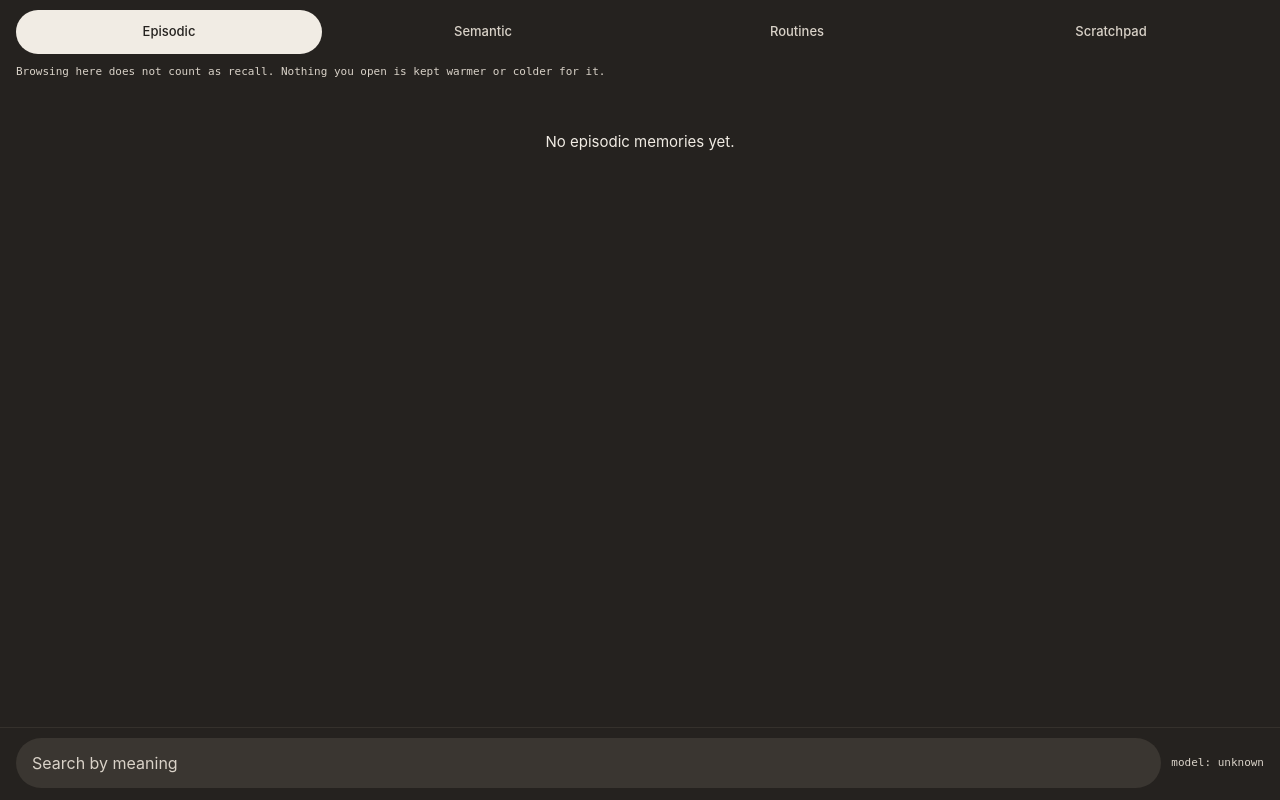
Test case: MemoryBench over useMemory › does not blame the browse for a search the embedder refused
Expected: the text "No episodic memories yet." is shown, x1=546 y1=130 x2=734 y2=153
Type "dentist" into the search field named "Search memory" at (589, 763), box x1=16 y1=738 x2=1161 y2=788
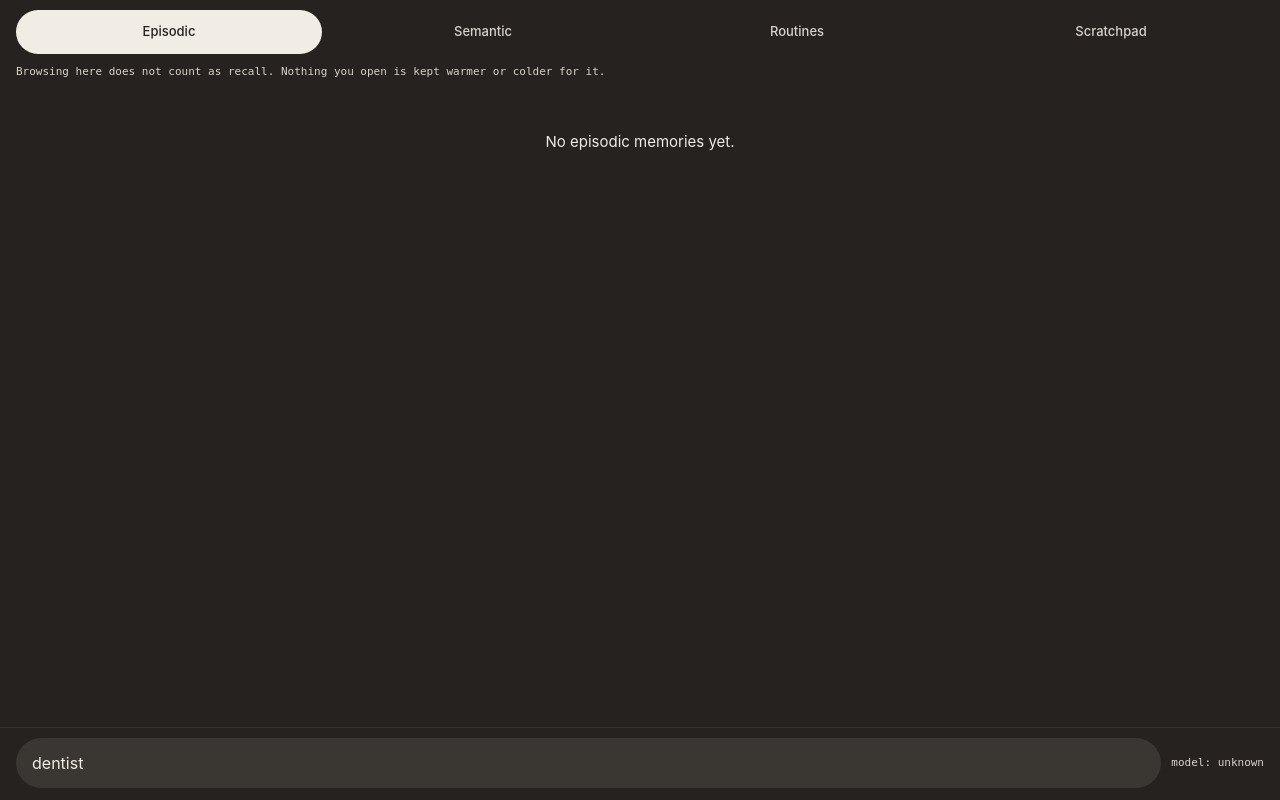
Submit the form named "Search memory", box x1=0 y1=727 x2=1279 y2=799
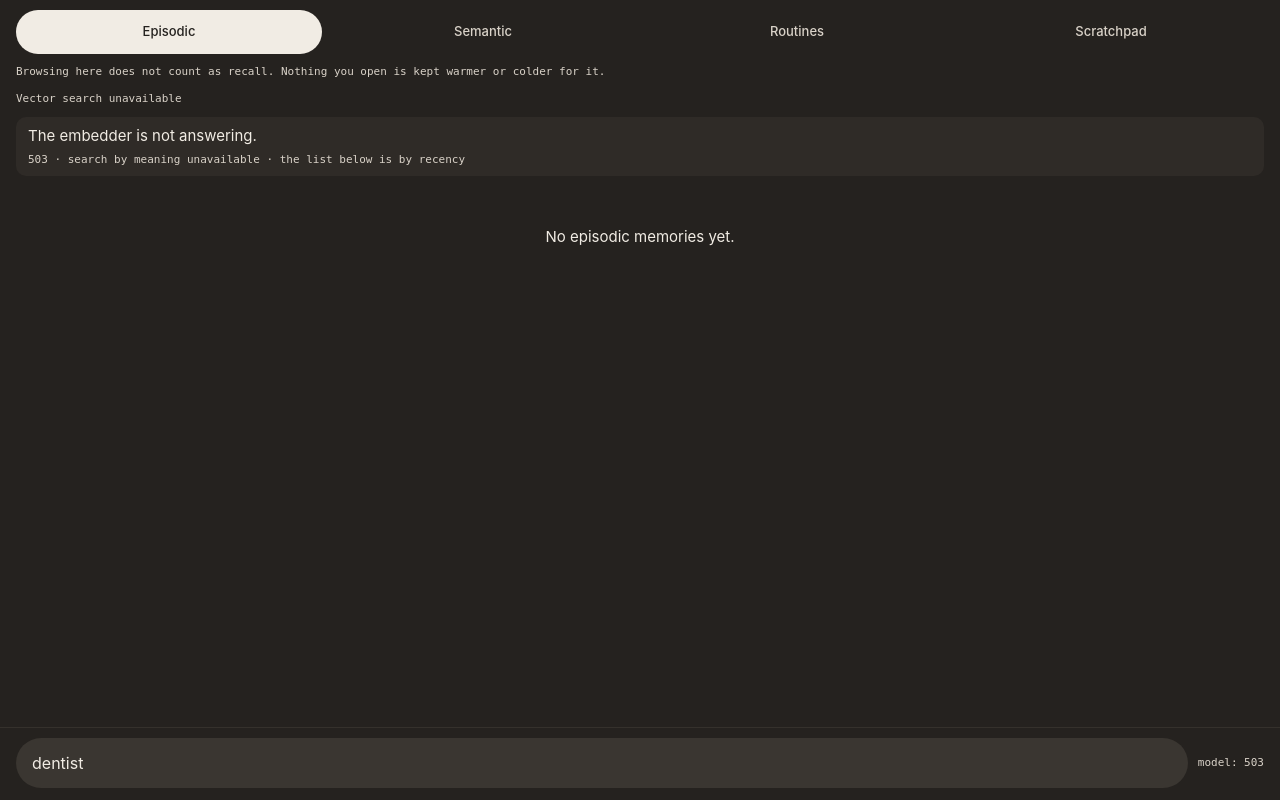
Expected: the text "No episodic memories yet." is shown, x1=546 y1=226 x2=734 y2=248
Now the text "The embedder is not answering." is shown, box x1=28 y1=126 x2=257 y2=145
Now the message named "Read errors" reads "Vector search unavailable", box x1=16 y1=92 x2=182 y2=104
